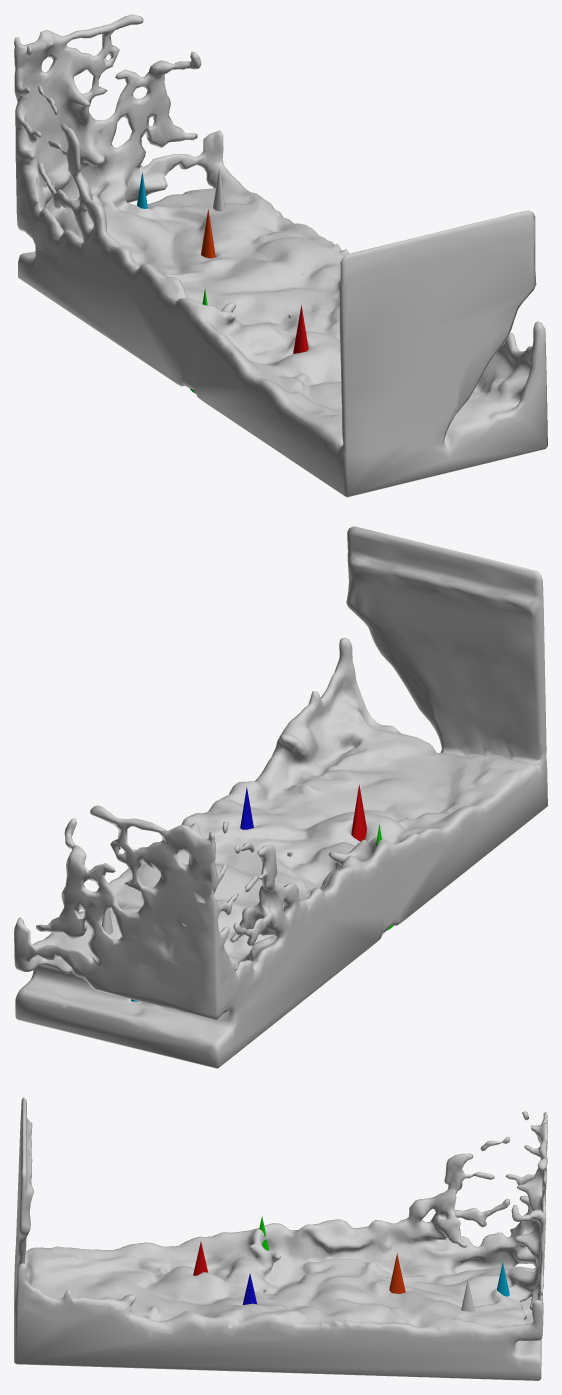
3 renders of one model, top to bottom at view 1: azimuth 30°, elevation 25°; view 2: azimuth 150°, elevation 25°; view 3: azimuth 270°, elevation 25°, orthographic. The views are drawn at different scales.
Visible parts, largest first — view 1: Liquid_Domain; view 2: Liquid_Domain; view 3: Liquid_Domain, 円錐.004.
Boxes of the visible parts, x1,y1,x2,y2 form: Liquid_Domain: (14, 14, 547, 497); Liquid_Domain: (14, 526, 547, 1068); Liquid_Domain: (14, 1097, 547, 1380); 円錐.004: (389, 1253, 405, 1293).
Size of the model in its own units: 129 by 158 by 366.
